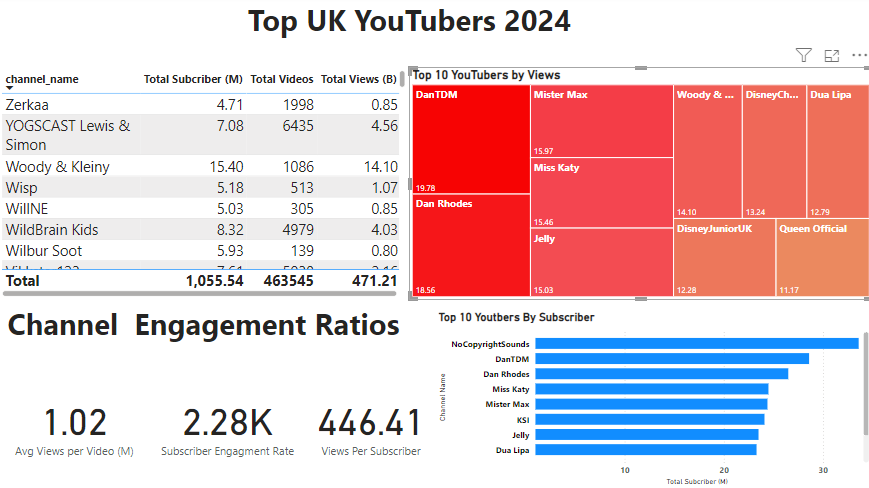

The page's visual inventory and layout, read from the dashboard file:
{"tool":"powerbi","page":{"name":"Top UK YouTubers 2024","canvas":[1280,720],"ordinal":0},"visuals":[{"type":"textbox","box":[336,0,530.8,104.1],"z":0},{"type":"tableEx","fields":{"Values":["view_Top_youtubers_2024.channel_name","_Measures.Total Subcriber (M)","_Measures.Total Videos","_Measures.Total Views (B)"]},"box":[0,104.1,601.4,341],"z":1},{"type":"treemap","title":"Top 10 YouTubers by Views","fields":{"Group":["view_Top_youtubers_2024.channel_name"],"Values":["_Measures.Total Views (B)"]},"box":[601.4,104.1,678.6,341],"z":2},{"type":"card","fields":{"Values":["_Measures.Avg Views per Video (M)"]},"box":[0,534.2,223.4,186.5],"z":3},{"type":"card","fields":{"Values":["_Measures.Subscriber Engagment Rate"]},"box":[216.7,534.2,238.5,186.5],"z":4},{"type":"card","fields":{"Values":["_Measures.Views Per Subscriber"]},"box":[450.2,534.2,189.8,186.5],"z":5},{"type":"clusteredBarChart","title":"Top 10 Youtbers By Subscriber","fields":{"Category":["view_Top_youtubers_2024.channel_name"],"Y":["_Measures.Total Subcriber (M)"]},"box":[640,459,640,261],"z":6},{"type":"textbox","box":[0,445.1,601.4,89],"z":7}]}

Visuals, with their boxes in screenshot pixels (x1, y1, x2, y2), scaled from the page's 1280x720 canvas onto the 869x488 screenshot:
textbox: detection(228, 0, 588, 71)
tableEx - view_Top_youtubers_2024.channel_name x _Measures.Total Subcriber (M): detection(0, 71, 408, 302)
"Top 10 YouTubers by Views" treemap: detection(408, 71, 868, 302)
card - _Measures.Avg Views per Video (M): detection(0, 362, 152, 487)
card - _Measures.Subscriber Engagment Rate: detection(147, 362, 309, 487)
card - _Measures.Views Per Subscriber: detection(306, 362, 434, 487)
"Top 10 Youtbers By Subscriber" clusteredBarChart: detection(434, 311, 868, 487)
textbox: detection(0, 302, 408, 362)
